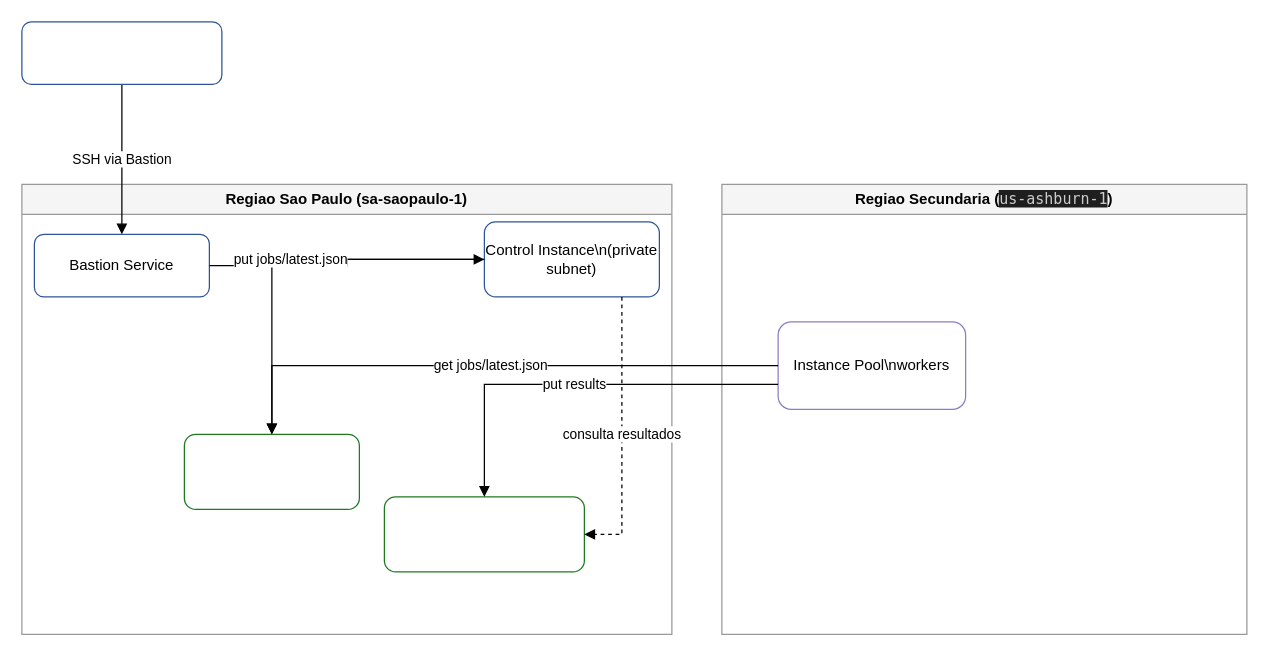
Some shapes in this 1269 by 656 pixel diagram are drawn without their labels. The box of each missing label's shape, as (x1, y1, x2, y2) in pixels:
Notebook do colaborador: (21, 21, 222, 84)
Object Storage\nBucket jobs: (183, 433, 359, 509)
Object Storage\nBucket results: (383, 496, 584, 572)
